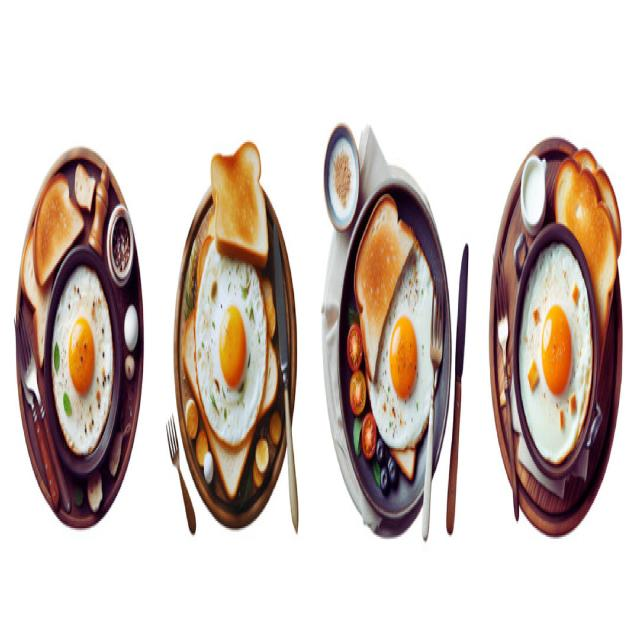Egg: (519, 244, 592, 464), (196, 240, 268, 447), (369, 244, 432, 450), (51, 266, 114, 456)
